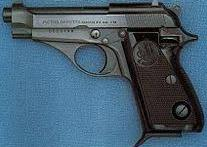gun: (1, 1, 207, 147)
